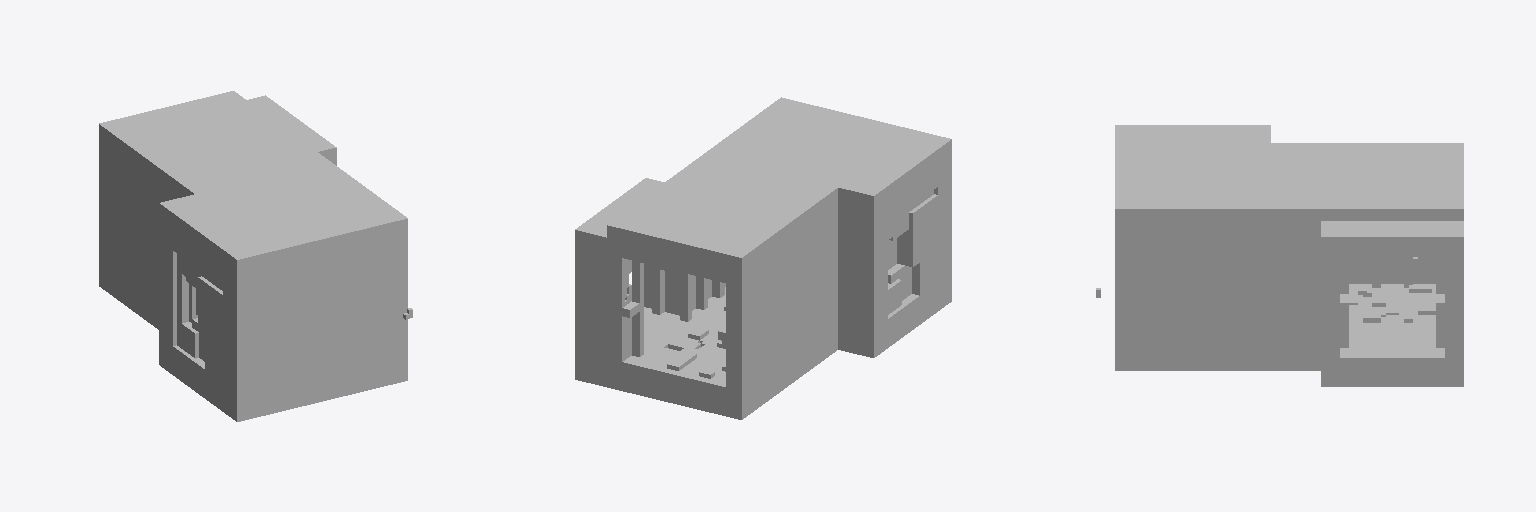
File: Mine-1-Mine Not Cross.obj
3 views of the same model, side by side, from view 1: azimuth 30°, elevation 25°; view 2: azimuth 150°, elevation 25°; view 3: azimuth 270°, elevation 25° (orthographic).
Parts seen in each view (by area): view 1: Mine Not Cross; view 2: Mine Not Cross; view 3: Mine Not Cross.
Boxes of the visible parts, x1=… form: Mine Not Cross: x1=99, y1=91, x2=412, y2=421; Mine Not Cross: x1=575, y1=97, x2=951, y2=419; Mine Not Cross: x1=1096, y1=125, x2=1463, y2=386.
Size of the model in its own units: 5.1 by 3.9 by 8.